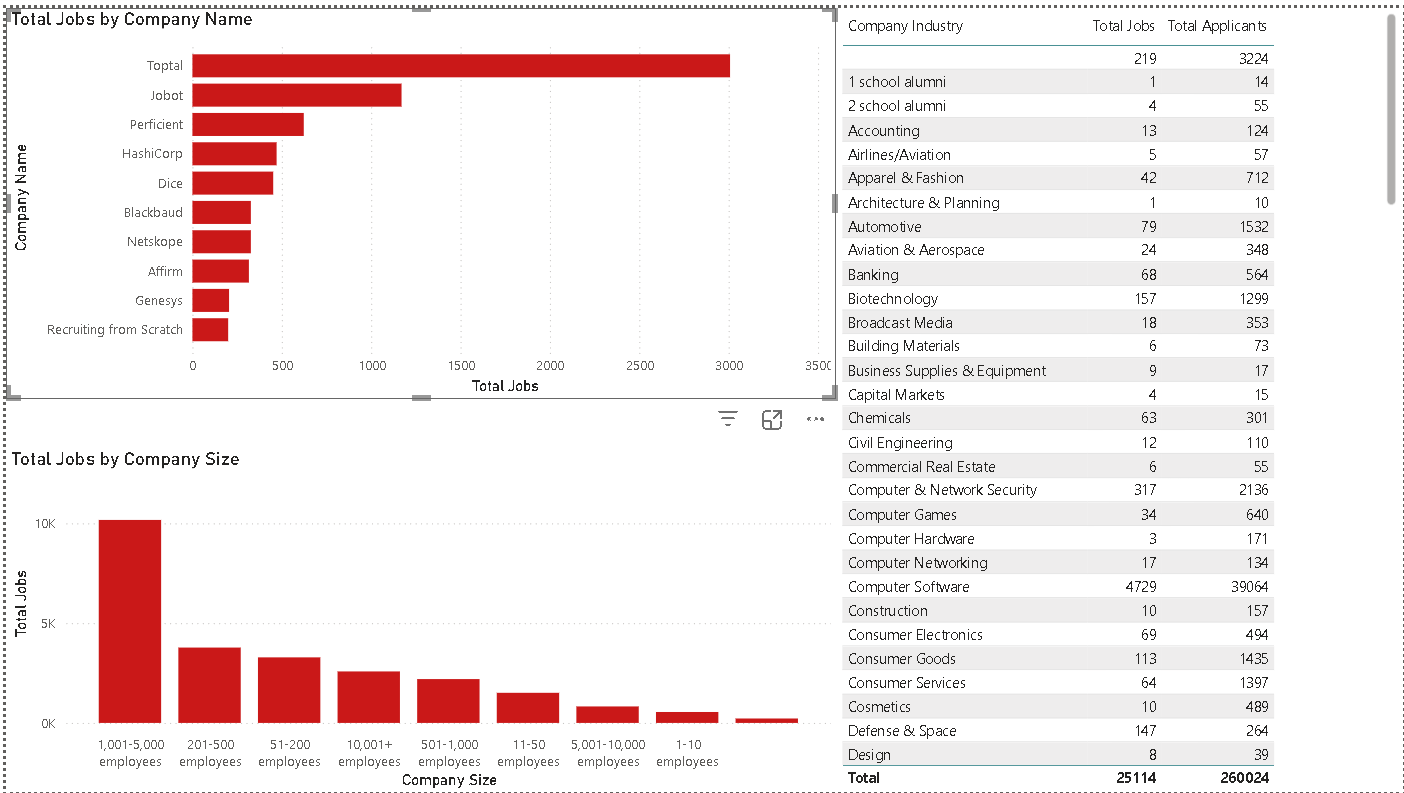

The page's visual inventory and layout, read from the dashboard file:
{"tool":"powerbi","page":{"name":"Company insights","canvas":[1280,720],"ordinal":1},"visuals":[{"type":"barChart","fields":{"Y":["job_postings.Total Jobs"],"Category":["job_postings.Company Name"]},"box":[0,0,761,359.3],"z":0},{"type":"columnChart","fields":{"Category":["job_postings.Company Size"],"Y":["job_postings.Total Jobs"]},"box":[0,403.4,761,316.9],"z":1000},{"type":"tableEx","fields":{"Values":["job_postings.Company Industry","job_postings.Total Jobs","job_postings.Total Applicants"]},"box":[761,0,518.6,720.3],"z":2000}]}

Visuals, with their boxes in screenshot pixels (x1, y1, x2, y2), scaled from the page's 1280x720 canvas onto the 1404x793 screenshot:
barChart - job_postings.Total Jobs x job_postings.Company Name: bbox=(0, 0, 835, 396)
columnChart - job_postings.Company Size x job_postings.Total Jobs: bbox=(0, 444, 835, 792)
tableEx - job_postings.Company Industry x job_postings.Total Jobs: bbox=(835, 0, 1403, 792)
